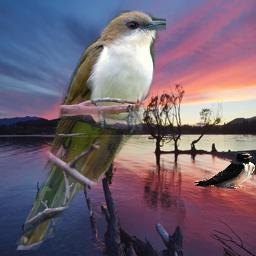Cuckoo: (15, 7, 166, 250)
Swallow: (192, 152, 255, 189)
